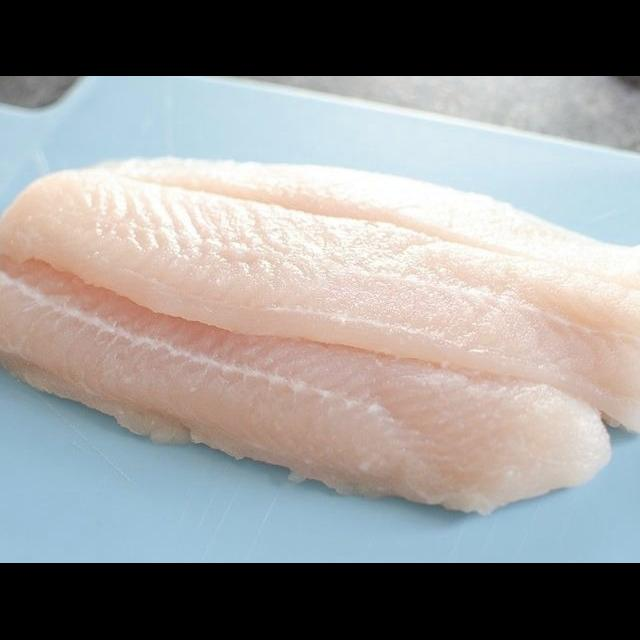fish: (0, 136, 640, 446)
